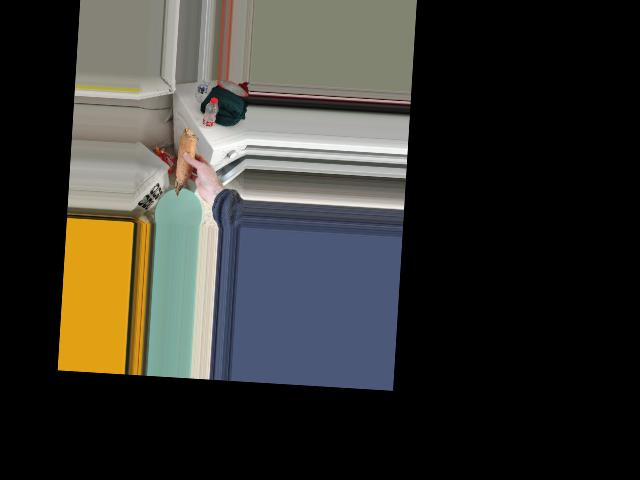sweet_potato: (175, 132, 196, 195)
